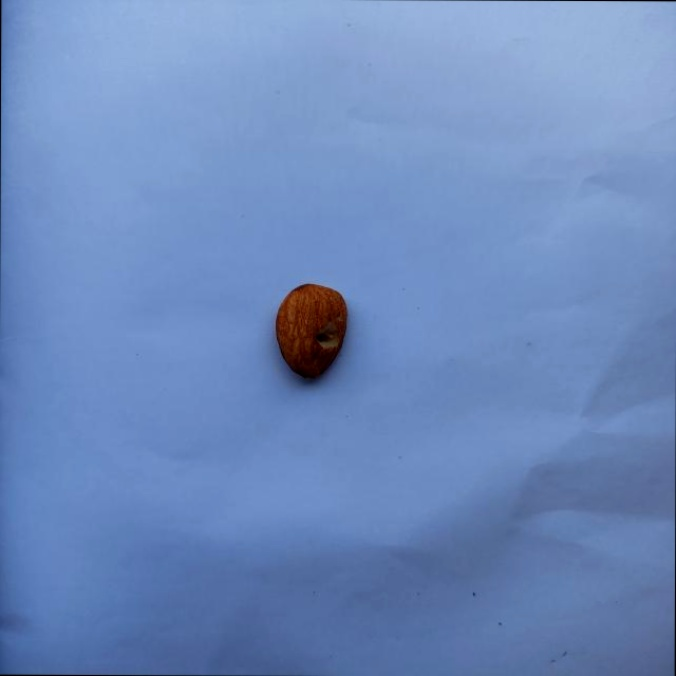grade3: (273, 279, 353, 384)
